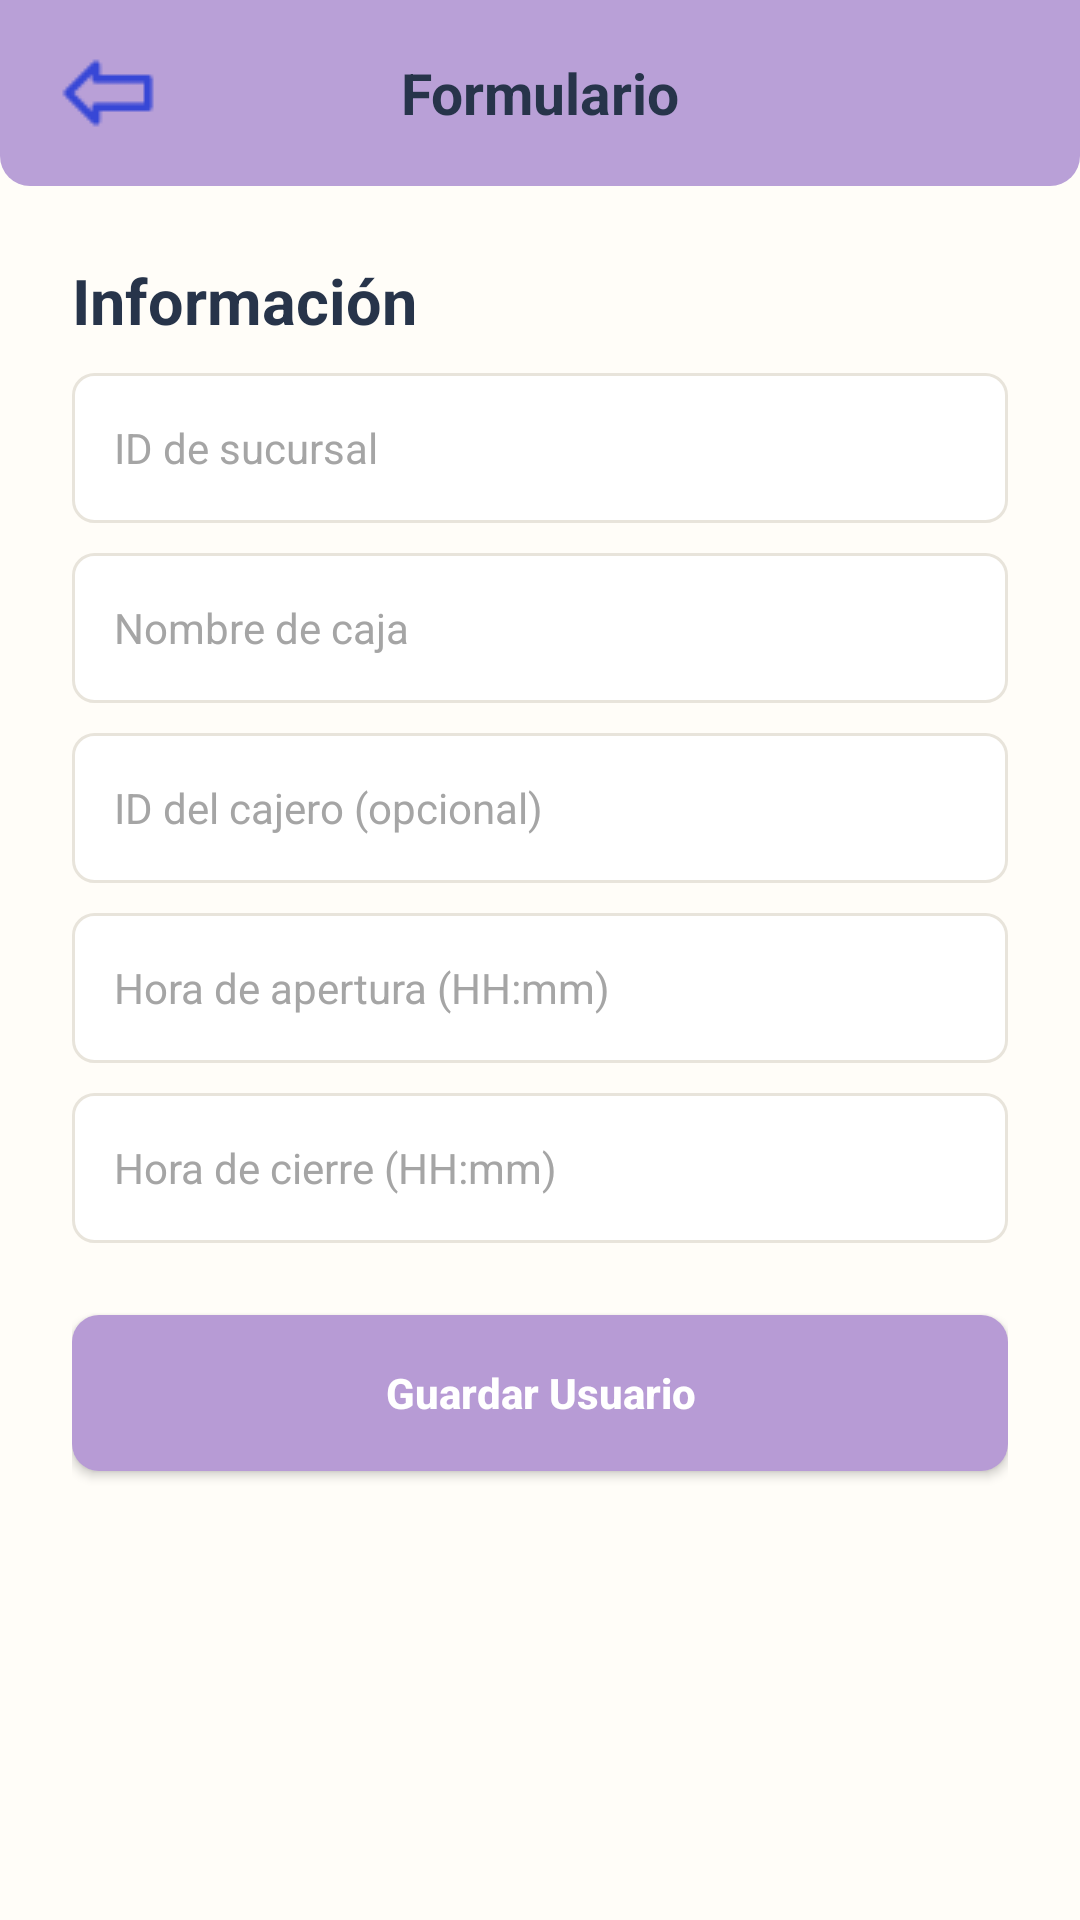

Where to tap for icons on this 1080*1920 app screen, as (x,y):
Volver: (108,93)
